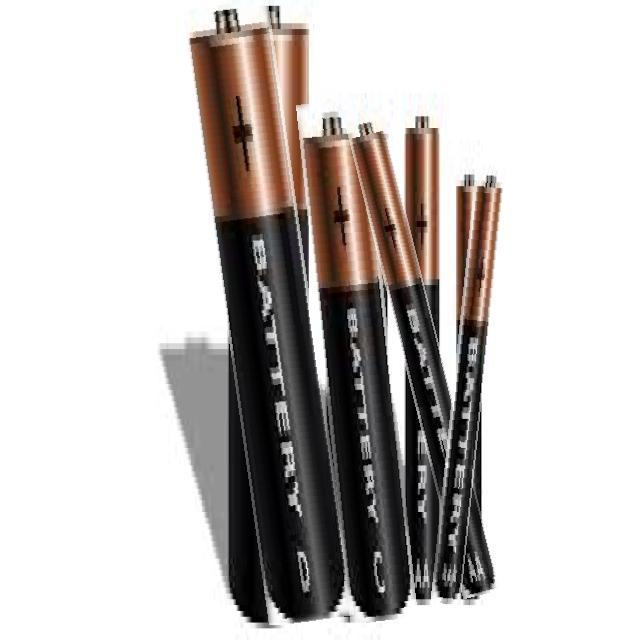Battery: (186, 0, 346, 628), (350, 112, 502, 611), (220, 3, 317, 629), (307, 106, 412, 626), (429, 167, 505, 602), (408, 108, 441, 611), (451, 163, 482, 608)
